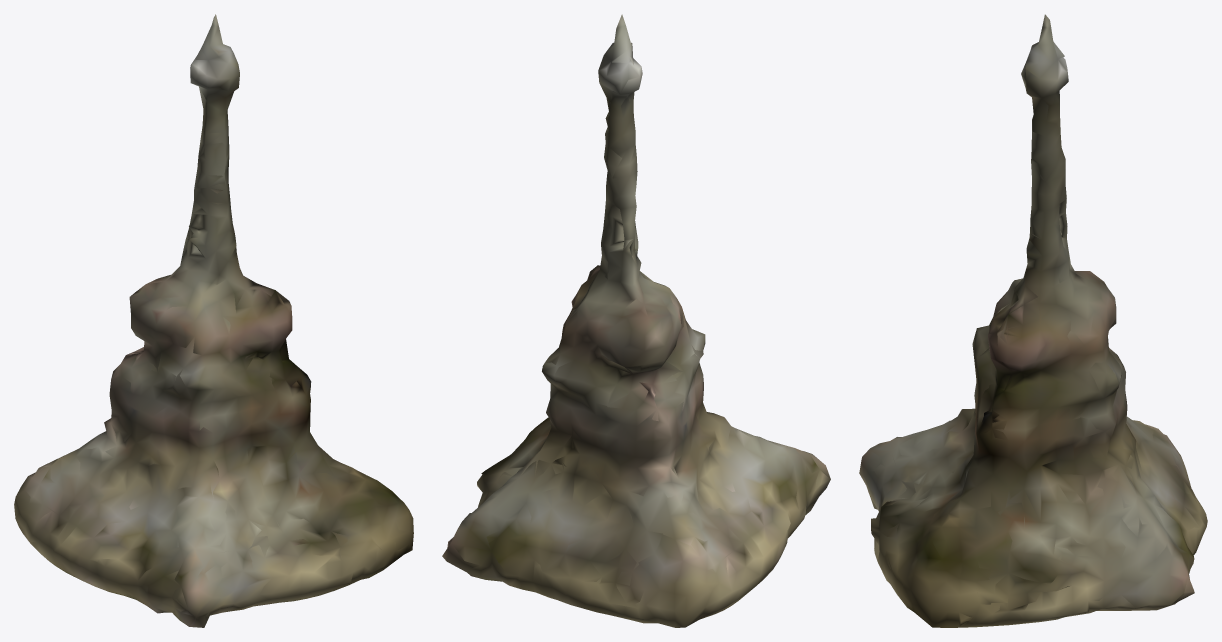
File: eiffel_tower.glb
3 renders of one model, left to right at view 1: azimuth 30°, elevation 25°; view 2: azimuth 150°, elevation 25°; view 3: azimuth 270°, elevation 25°, orthographic. The views are drawn at different scales.
Parts seen in each view (by area): view 1: eiffel_tower; view 2: eiffel_tower; view 3: eiffel_tower.
Boxes of the visible parts, box(x1,y1,x2,y2) form: eiffel_tower: box(14, 14, 413, 627); eiffel_tower: box(442, 14, 830, 627); eiffel_tower: box(859, 14, 1207, 627).
Bounding box in the file's own units: 0.9277 × 1.57 × 0.9084.
